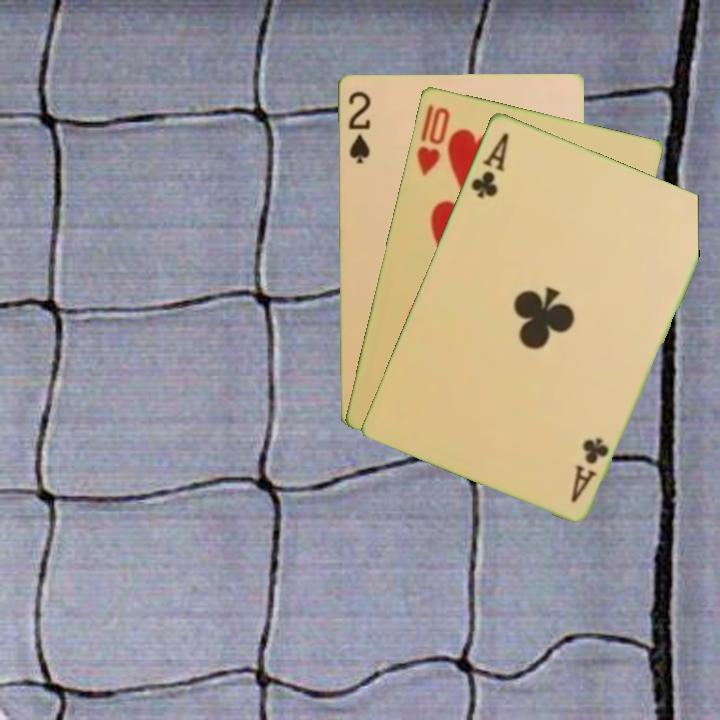10h: (412, 102, 453, 178)
2s: (344, 87, 373, 166)
Ac: (467, 129, 512, 201), (567, 433, 612, 505)
